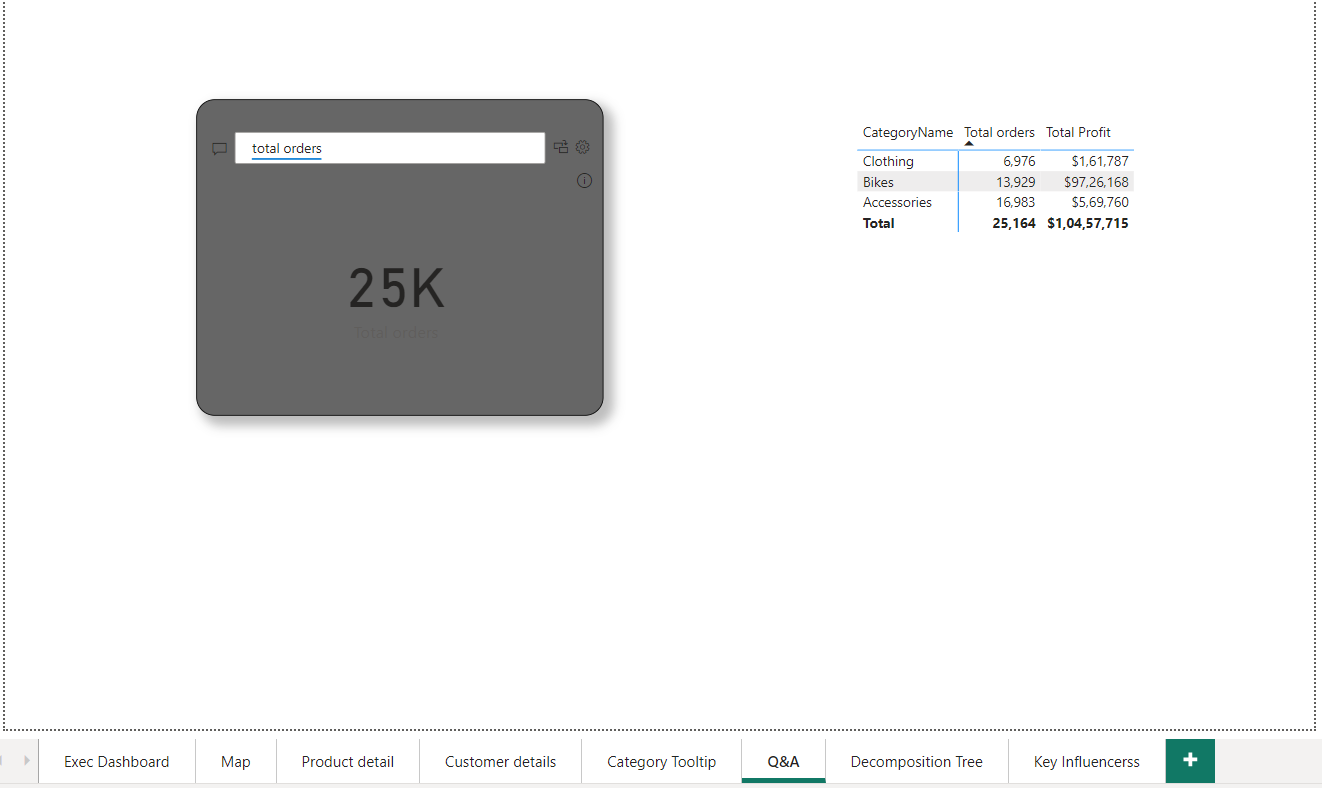

What the dashboard file says about the page in this screenshot:
{"tool":"powerbi","page":{"name":"Q&A ","canvas":[1280,720],"ordinal":5},"visuals":[{"type":"pivotTable","fields":{"Rows":["Product Categories Lookup.CategoryName"],"Values":["Meassure Table.Total orders","Meassure Table.Total Profit"]},"box":[828.8,119.8,398.5,226.1],"z":0},{"type":"qnaVisual","box":[58.7,110,581.9,473.1],"z":1000}]}

Visuals, with their boxes on the page's 1280x720 design canvas (x1, y1, x2, y2). These are canvas units, not pixel positions in the 1322x788 screenshot, which may show the page scaled, cropped or inside an application window:
pivotTable - Product Categories Lookup.CategoryName x Meassure Table.Total orders: 829:120:1227:346
qnaVisual: 59:110:641:583
